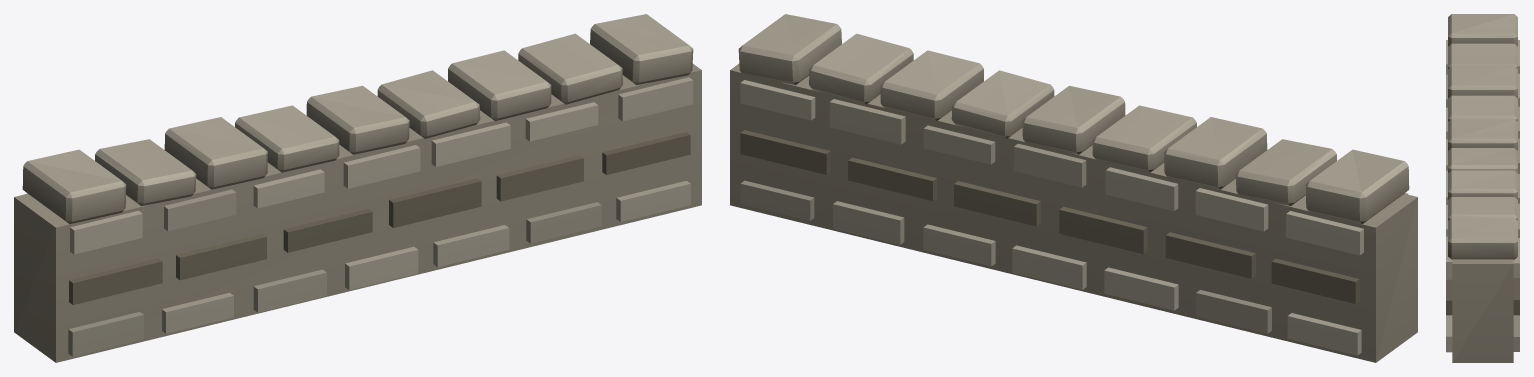
File: drystone-wall.glb
3 renders of one model, left to right at view 1: azimuth 30°, elevation 25°; view 2: azimuth 150°, elevation 25°; view 3: azimuth 270°, elevation 25°, orthographic. The views are drawn at different scales.
Parts seen in each view (by area): view 1: drystone_wall; view 2: drystone_wall; view 3: drystone_wall.
Boxes of the visible parts, bbox=[...] form: drystone_wall: bbox=[14, 14, 701, 362]; drystone_wall: bbox=[730, 14, 1417, 362]; drystone_wall: bbox=[1446, 14, 1519, 362].
Size of the model in its own units: 4 by 0.991 by 0.5401.
